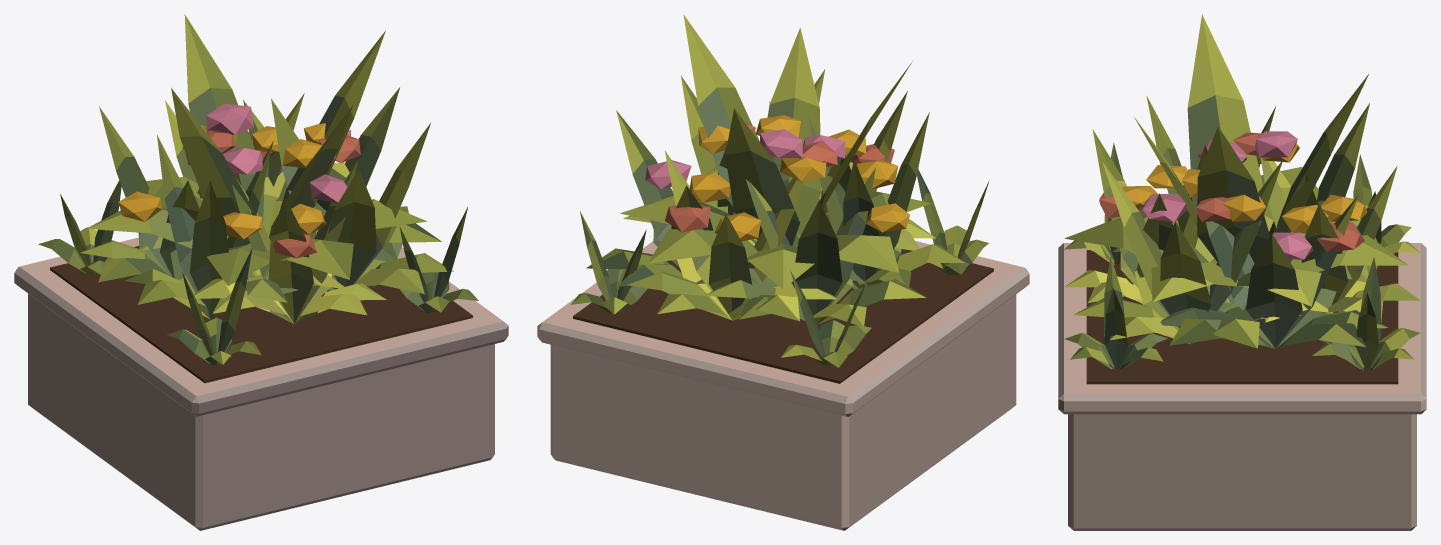
The model's file is planter_square.glb.
3 renders of one model, left to right at view 1: azimuth 30°, elevation 25°; view 2: azimuth 150°, elevation 25°; view 3: azimuth 270°, elevation 25°, orthographic.
Parts seen in each view (by area): view 1: body; view 2: body; view 3: body.
Boxes of the visible parts, x1=… form: body: x1=14, y1=14, x2=508, y2=530; body: x1=537, y1=14, x2=1029, y2=530; body: x1=1058, y1=14, x2=1426, y2=530.
Bounding box in the file's own units: 1.3 × 1.52 × 1.3.
